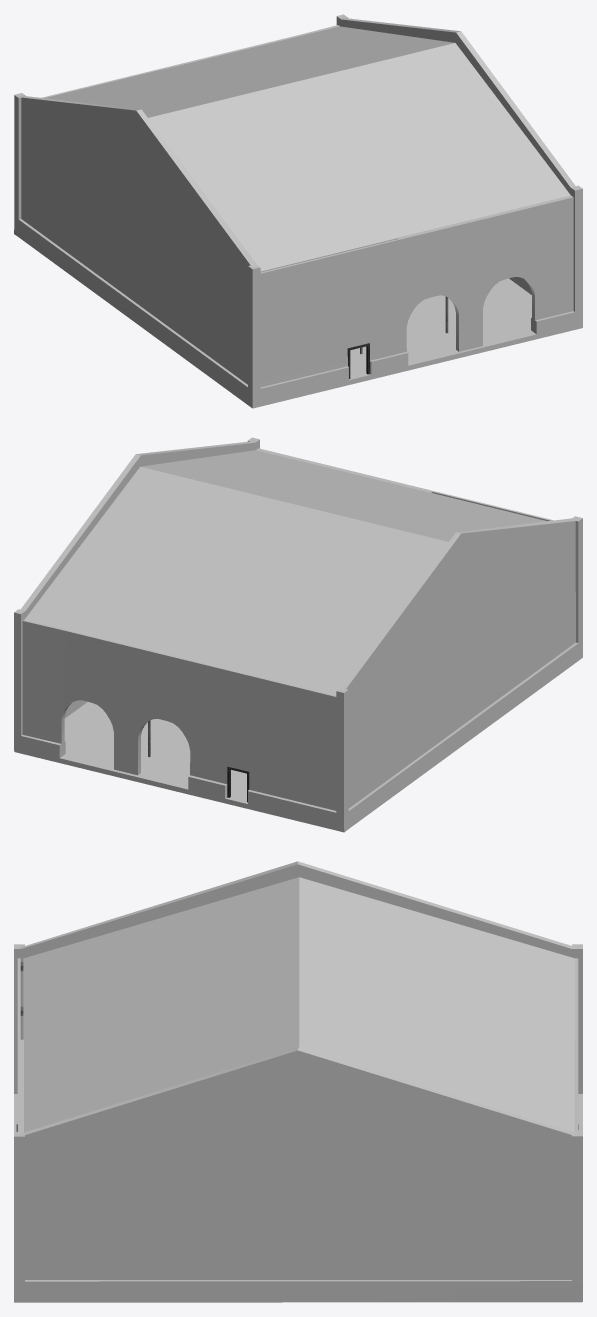
File: Maintenance Yard.fbx
3 renders of one model, top to bottom at view 1: azimuth 30°, elevation 25°; view 2: azimuth 150°, elevation 25°; view 3: azimuth 270°, elevation 25°, orthographic. The views are drawn at different scales.
Visible parts, largest first — view 1: Cube.052, Cube.023; view 2: Cube.052, Cube.023; view 3: Cube.052, Cube.023.
Boxes of the visible parts, x1,y1,x2,y2 form: Cube.052: (14, 14, 582, 408); Cube.023: (46, 26, 570, 272); Cube.052: (14, 437, 582, 832); Cube.023: (25, 450, 546, 695); Cube.052: (14, 861, 582, 1302); Cube.023: (23, 877, 575, 1131).
Bounding box in the file's own units: 3141 × 1910 × 3928.
